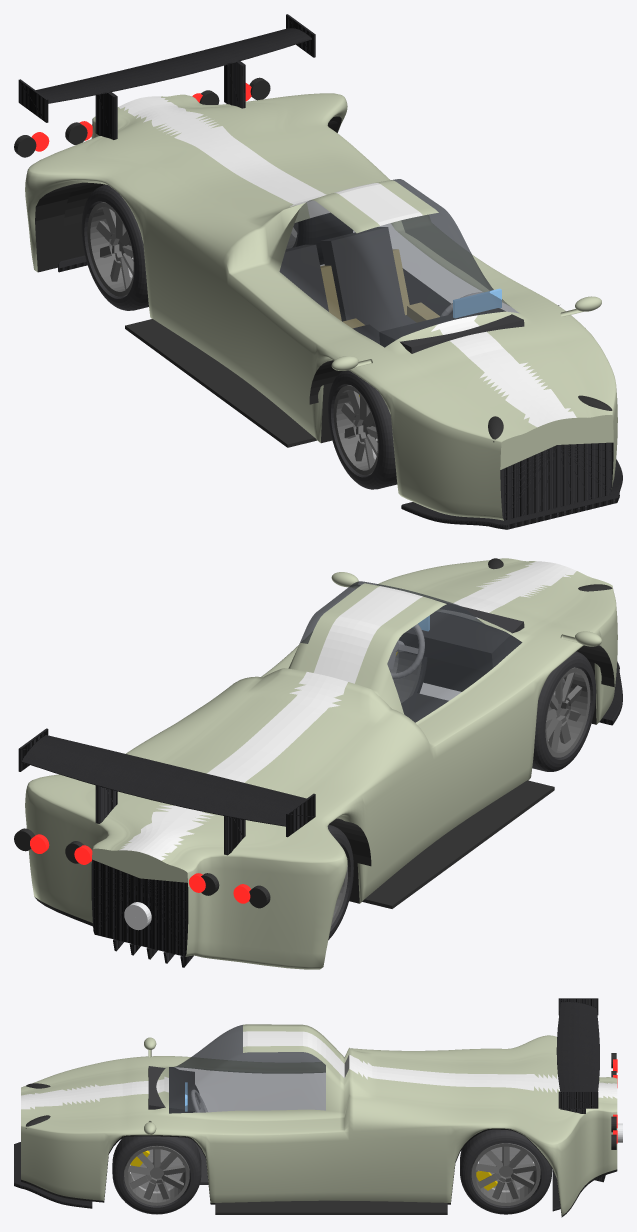
The model's file is koenigsegg-jesko.glb.
3 views of the same model, one above another, from view 1: azimuth 30°, elevation 25°; view 2: azimuth 150°, elevation 25°; view 3: azimuth 270°, elevation 25° (orthographic). The views are drawn at different scales.
Visible parts, largest first — view 1: Body_PrimaryPaint, Glass_Windows, Carbon_Exterior, Body_SecondaryPaint, WheelWells, Interior_Seats, Underbody, Rim_RR, Tire_FR, Tire_RR, Rim_FR, Interior_Dashboard (+4 smaller); view 2: Body_PrimaryPaint, Carbon_Exterior, Body_SecondaryPaint, Glass_Windows, WheelWells, Interior_Dashboard, Rim_FR, Tire_FR, Underbody, Lights_Housings, Lights_Rear, Tire_RR (+4 smaller); view 3: Body_PrimaryPaint, Glass_Windows, Body_SecondaryPaint, Carbon_Exterior, WheelWells, Tire_FL, Rim_RL, Tire_RL, Rim_FL, Interior_Dashboard, Underbody, BrakeDisc_RL (+2 smaller).
Boxes of the visible parts, x1,y1,x2,y2 form: Body_PrimaryPaint: [25, 93, 617, 520]; Glass_Windows: [279, 179, 519, 347]; Carbon_Exterior: [18, 14, 622, 529]; Body_SecondaryPaint: [119, 96, 576, 427]; WheelWells: [64, 182, 559, 447]; Interior_Seats: [279, 227, 416, 331]; Underbody: [35, 116, 341, 443]; Rim_RR: [87, 202, 134, 296]; Tire_FR: [328, 370, 397, 489]; Tire_RR: [81, 184, 148, 310]; Rim_FR: [333, 385, 378, 475]; Interior_Dashboard: [379, 308, 524, 353]; Body_PrimaryPaint: [25, 558, 617, 969]; Carbon_Exterior: [18, 661, 622, 967]; Body_SecondaryPaint: [119, 561, 576, 860]; Glass_Windows: [299, 581, 521, 722]; WheelWells: [329, 645, 614, 908]; Interior_Dashboard: [399, 601, 524, 671]; Rim_FR: [545, 667, 590, 757]; Tire_FR: [532, 651, 596, 771]; Underbody: [35, 657, 596, 955]; Lights_Housings: [14, 558, 612, 908]; Lights_Rear: [30, 834, 250, 903]; Tire_RR: [327, 825, 353, 939]; Body_PrimaryPaint: [21, 1024, 617, 1215]; Glass_Windows: [169, 1025, 325, 1113]; Body_SecondaryPaint: [21, 1031, 617, 1109]; Carbon_Exterior: [14, 998, 605, 1211]; WheelWells: [215, 1200, 447, 1214]; Tire_FL: [112, 1136, 201, 1214]; Rim_RL: [471, 1143, 540, 1205]; Tire_RL: [460, 1129, 552, 1214]; Rim_FL: [124, 1146, 189, 1205]; Interior_Dashboard: [148, 1066, 194, 1113]; Underbody: [21, 1128, 617, 1217]; BrakeDisc_RL: [478, 1147, 533, 1192].
Size of the model in its own units: 2.04 by 1.21 by 4.71.
Materials: 17 (2 with a texture image).
